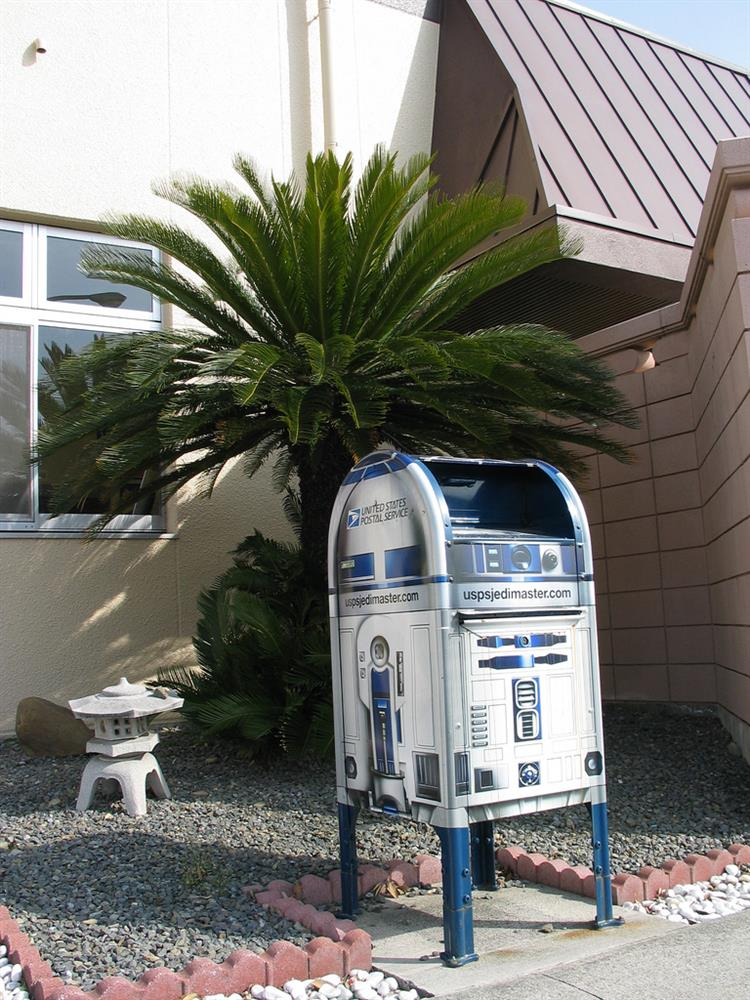R2D2_mailbox: (322, 452, 611, 828)
